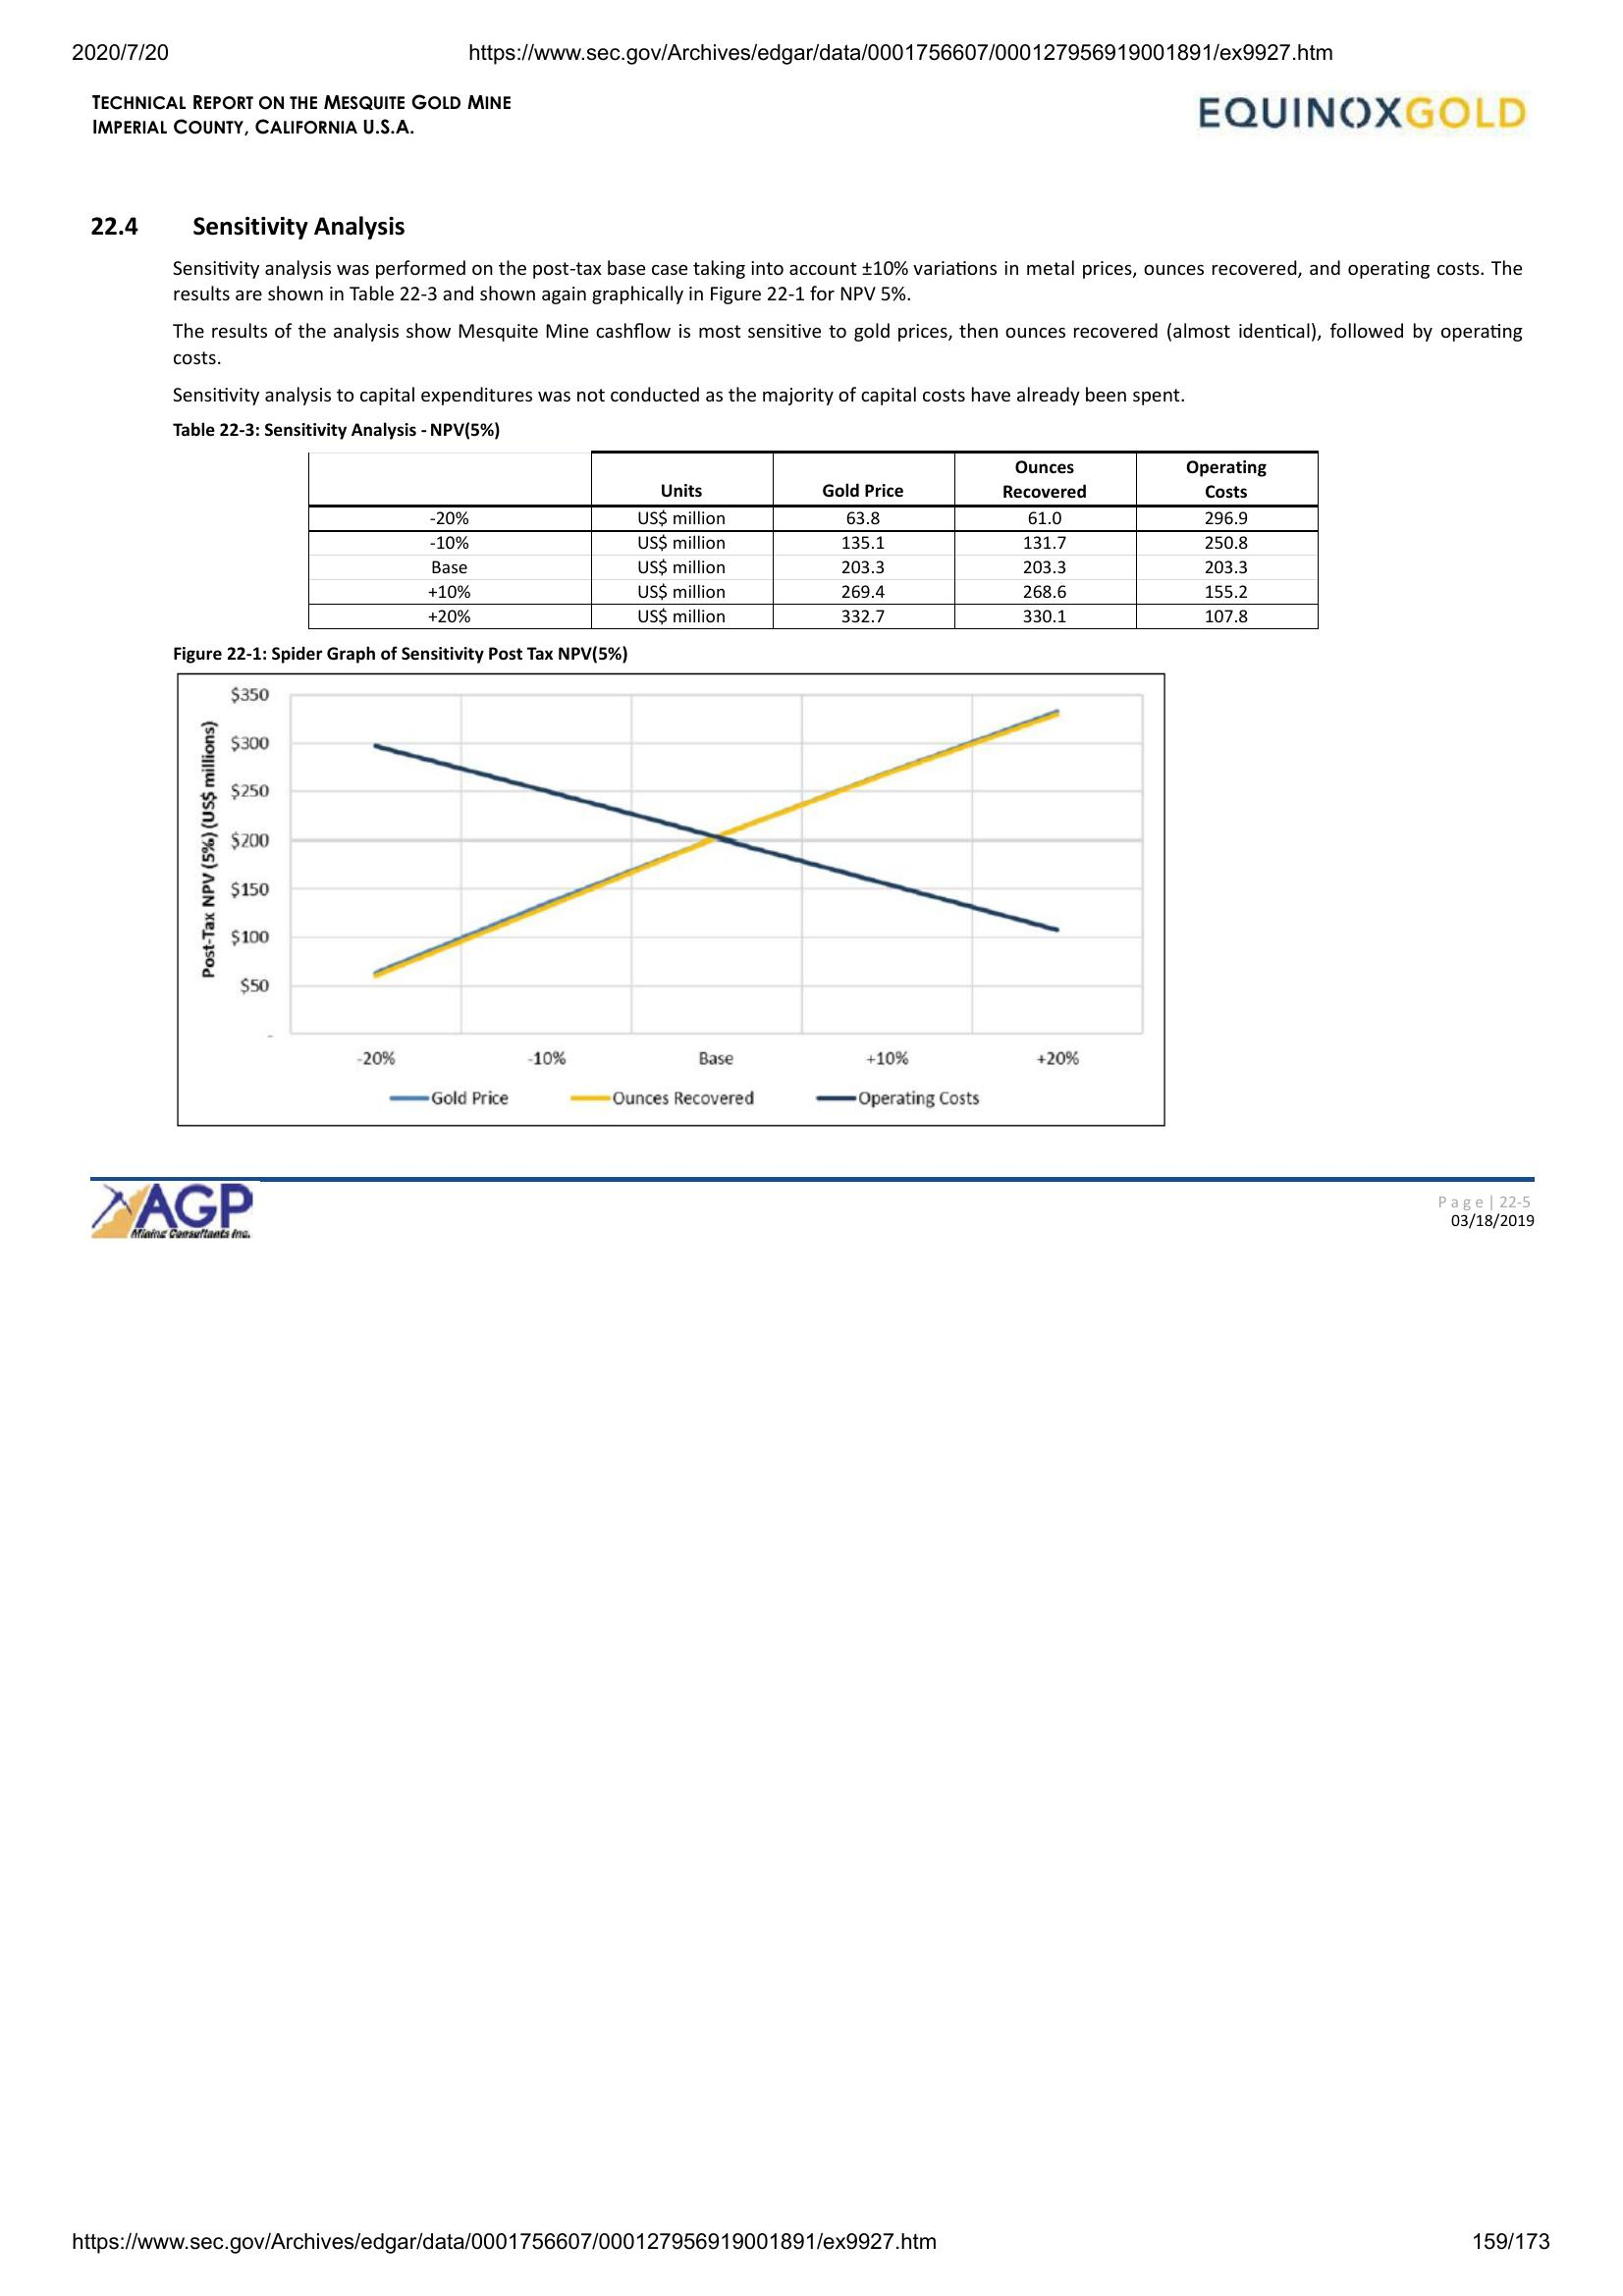table: (299, 444, 1323, 635)
